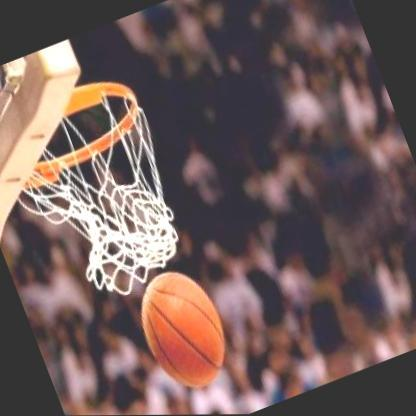basketball: (122, 254, 248, 407)
